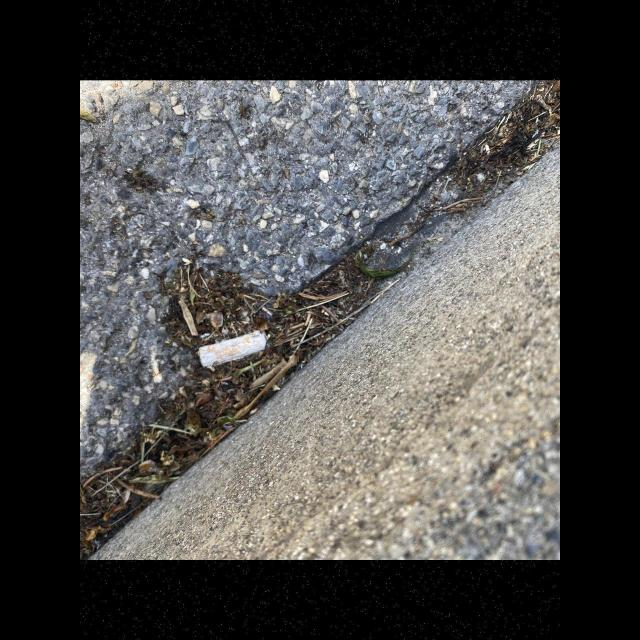cigarette: (198, 330, 268, 368)
